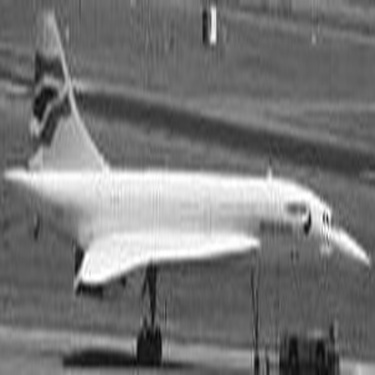airplane: (14, 8, 359, 363)
